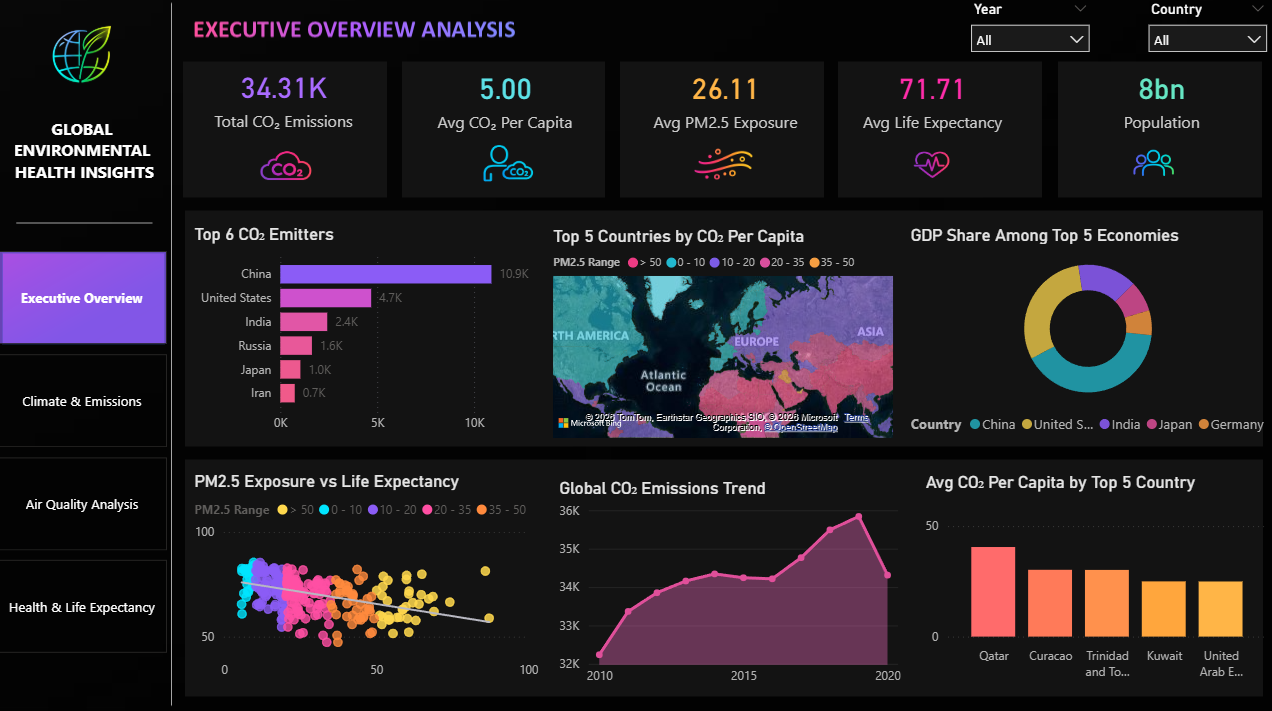

The page's visual inventory and layout, read from the dashboard file:
{"tool":"powerbi","page":{"name":"Executive Overview","canvas":[1280,720],"ordinal":0},"visuals":[{"type":"card","fields":{"Values":["Calculated_Measures.Avg_CO2_Per_Capita"]},"box":[418.8,62.5,178.8,78.8],"z":0},{"type":"card","fields":{"Values":["Calculated_Measures.Avg_PM2.5_Exposure"]},"box":[640,62.5,177.5,78.8],"z":1000},{"type":"card","fields":{"Values":["Calculated_Measures.Avg_Life_Expectancy"]},"box":[846.2,62.5,178.8,78.8],"z":2000},{"type":"card","fields":{"Values":["Calculated_Measures.Total_Population"]},"box":[1072.5,62.5,185,78.8],"z":3000},{"type":"image","box":[238.8,120.8,96.1,97.4],"z":4000},{"type":"image","box":[459.7,130.4,97.4,76.8],"z":5000},{"type":"image","box":[677.5,126.2,97.5,85],"z":6000},{"type":"image","box":[886.2,127.5,100,81.2],"z":7000},{"type":"image","box":[1102.5,128.8,108.8,77.5],"z":8000},{"type":"card","fields":{"Values":["Calculated_Measures.Total CO₂ Emission"]},"box":[197.5,60,178.8,81.2],"z":9000},{"type":"areaChart","title":"Global CO₂ Emissions Trend","fields":{"Category":["Date_Table.Year"],"Y":["Calculated_Measures.Total CO₂ Emissions"]},"box":[557.1,481.6,351.3,216.8],"z":10000},{"type":"clusteredBarChart","title":"Top 6 CO₂ Emitters","fields":{"Y":["Calculated_Measures.Total CO₂ Emissions"],"Category":["Country_Table.Country"]},"box":[192.1,227.8,328,218.2],"z":11000},{"type":"scatterChart","title":"PM2.5 Exposure vs Life Expectancy","fields":{"X":["Calculated_Measures.Avg PM2.5 Exposure"],"Y":["Calculated_Measures.Avg Life Expectancy"],"Category":["Country_Table.Country"],"Series":["Air_Quality_Table.PM2.5 Range"]},"box":[192.1,474.8,354,216.8],"z":12000},{"type":"filledMap","title":"Global PM2.5 Exposure by Country","fields":{"Category":["Country_Table.Country"],"Series":["Air_Quality_Table.PM2.5 Range"]},"box":[536.5,227.8,349.9,218.2],"z":13000},{"type":"donutChart","title":"GDP Share Among Top 5 Economies","fields":{"Y":["Calculated_Measures.Total GDP"],"Category":["Country_Table.Country"]},"box":[908.4,229.2,365,218.2],"z":14000},{"type":"clusteredColumnChart","title":"Avg CO₂ Per Capita by Top 5 Country","fields":{"Category":["Country_Table.Country"],"Y":["Calculated_Measures.Avg CO₂ Per Capita"]},"box":[923.5,474.8,351.3,216.8],"z":15000},{"type":"textbox","box":[0,116.6,170.2,85.1],"z":16000},{"type":"pageNavigator","box":[0,255.2,170.2,403.4],"z":17000},{"type":"image","box":[43.9,17.8,82.3,83.7],"z":18000},{"type":"slicer","fields":{"Values":["Date_Table.Year"]},"box":[963.8,0,138.8,62.5],"z":19000},{"type":"slicer","fields":{"Values":["Country_Table.Country"]},"box":[1141.2,0,138.8,60],"z":20000},{"type":"shape","box":[520.1,218.2,12.3,236],"z":21000},{"type":"shape","box":[896.1,218.2,12.3,236],"z":22000},{"type":"shape","box":[911.2,462.4,12.3,236],"z":23000},{"type":"shape","box":[544.8,462.4,12.3,236],"z":24000}]}

Visuals, with their boxes in screenshot pixels (x1, y1, x2, y2), scaled from the page's 1280x720 canvas onto the 1272x711 screenshot:
card - Calculated_Measures.Avg_CO2_Per_Capita: left=416, top=62, right=594, bottom=140
card - Calculated_Measures.Avg_PM2.5_Exposure: left=636, top=62, right=812, bottom=140
card - Calculated_Measures.Avg_Life_Expectancy: left=841, top=62, right=1019, bottom=140
card - Calculated_Measures.Total_Population: left=1066, top=62, right=1250, bottom=140
image: left=237, top=119, right=333, bottom=215
image: left=457, top=129, right=554, bottom=205
image: left=673, top=125, right=770, bottom=209
image: left=881, top=126, right=980, bottom=206
image: left=1096, top=127, right=1204, bottom=204
card - Calculated_Measures.Total CO₂ Emission: left=196, top=59, right=374, bottom=139
"Global CO₂ Emissions Trend" areaChart: left=554, top=476, right=903, bottom=690
"Top 6 CO₂ Emitters" clusteredBarChart: left=191, top=225, right=517, bottom=440
"PM2.5 Exposure vs Life Expectancy" scatterChart: left=191, top=469, right=543, bottom=683
"Global PM2.5 Exposure by Country" filledMap: left=533, top=225, right=881, bottom=440
"GDP Share Among Top 5 Economies" donutChart: left=903, top=226, right=1265, bottom=442
"Avg CO₂ Per Capita by Top 5 Country" clusteredColumnChart: left=918, top=469, right=1267, bottom=683
textbox: left=0, top=115, right=169, bottom=199
pageNavigator: left=0, top=252, right=169, bottom=650
image: left=44, top=18, right=125, bottom=100
slicer - Date_Table.Year: left=958, top=0, right=1096, bottom=62
slicer - Country_Table.Country: left=1134, top=0, right=1271, bottom=59
shape: left=517, top=215, right=529, bottom=449
shape: left=890, top=215, right=903, bottom=449
shape: left=906, top=457, right=918, bottom=690
shape: left=541, top=457, right=554, bottom=690
